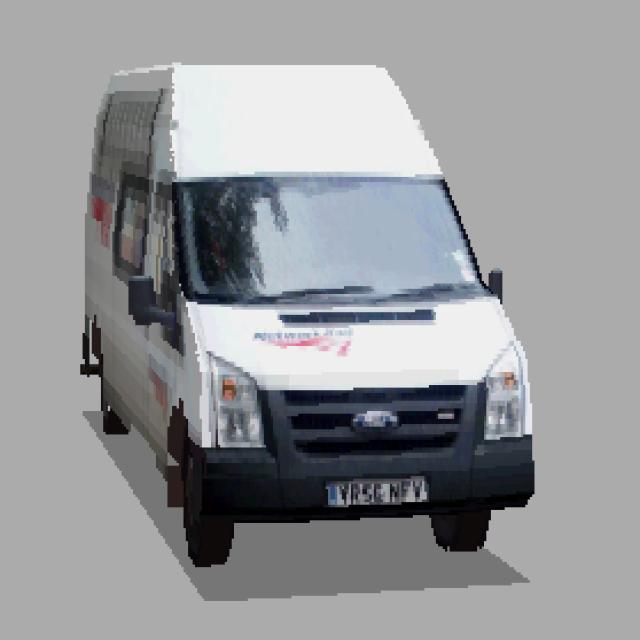Truck: (73, 43, 537, 600)
